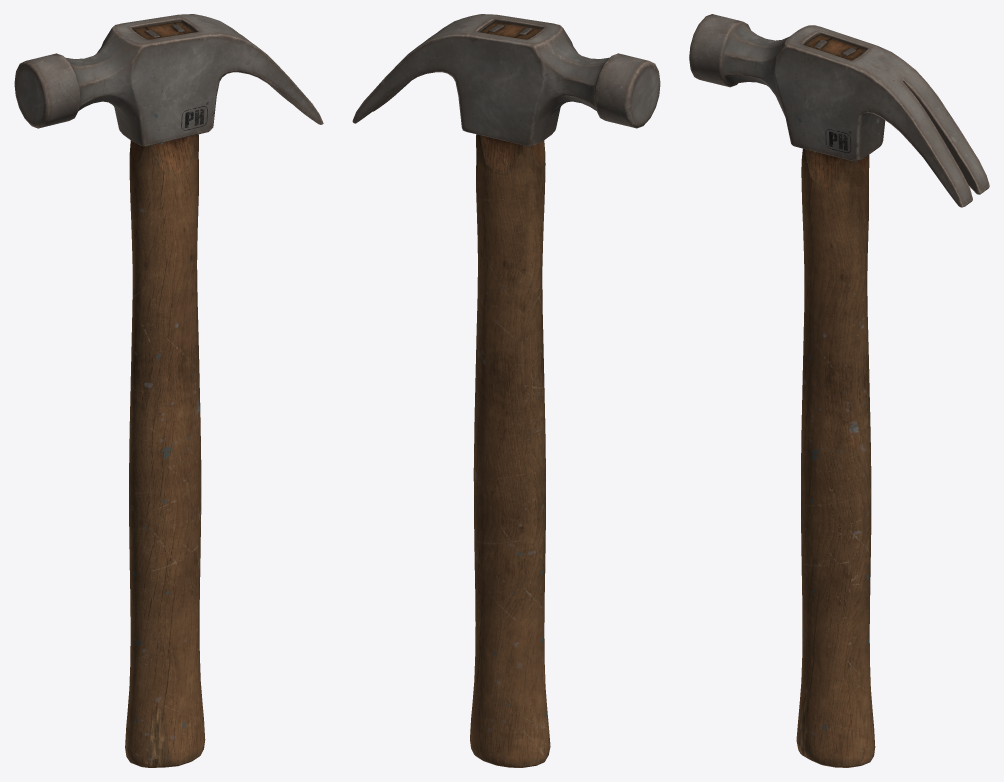
The model's file is hammer.glb.
3 renders of one model, left to right at view 1: azimuth 30°, elevation 25°; view 2: azimuth 150°, elevation 25°; view 3: azimuth 330°, elevation 25°, orthographic. The views are drawn at different scales.
Visible parts, largest first — view 1: wooden_hammer_01; view 2: wooden_hammer_01; view 3: wooden_hammer_01.
Boxes of the visible parts, x1,y1,x2,y2 form: wooden_hammer_01: [14, 14, 323, 767]; wooden_hammer_01: [352, 14, 660, 767]; wooden_hammer_01: [689, 14, 989, 767].
Bounding box in the file's own units: 0.1118 × 0.2792 × 0.0234.
Materials: 1 (1 with a texture image).
